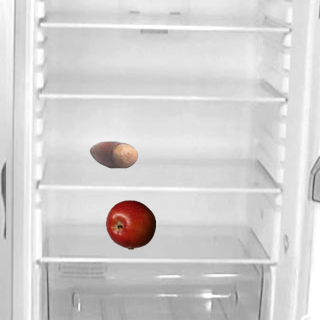Apple Braeburn: (105, 199, 155, 249)
Hazelnut: (88, 129, 138, 179)
